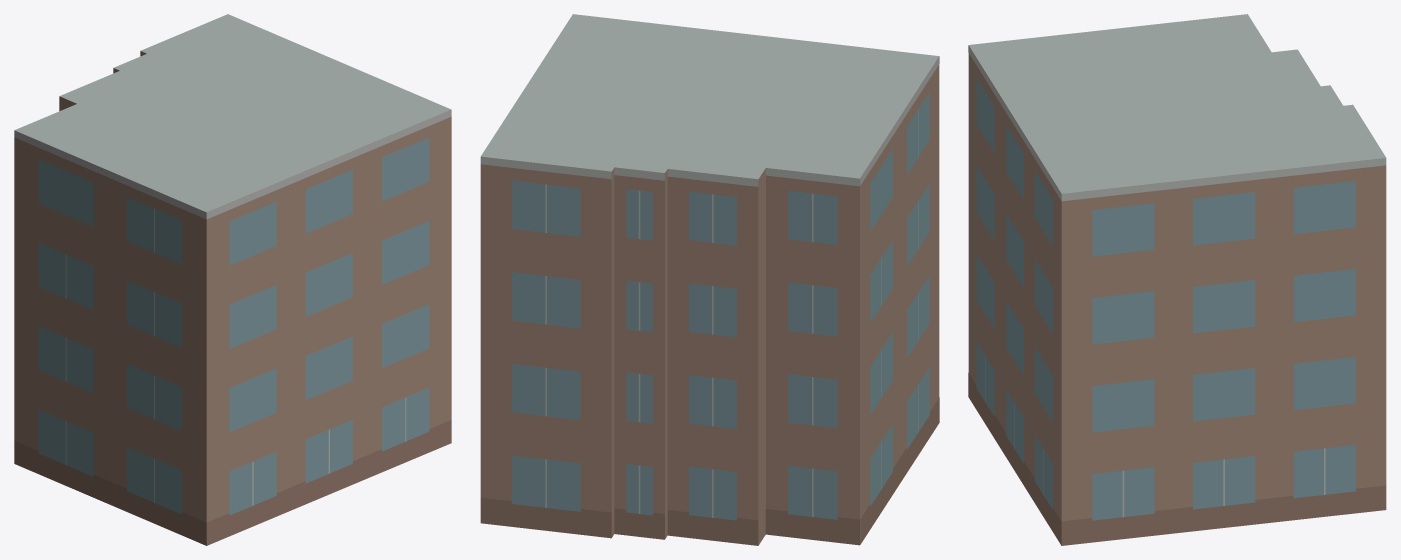
Rendered from survey-upis-32717608.glb.
3 renders of one model, left to right at view 1: azimuth 30°, elevation 25°; view 2: azimuth 150°, elevation 25°; view 3: azimuth 270°, elevation 25°, orthographic. The views are drawn at different scales.
Visible parts, largest first — view 1: survey-upis-32717608.tmp; view 2: survey-upis-32717608.tmp; view 3: survey-upis-32717608.tmp.
Boxes of the visible parts, <box> form: survey-upis-32717608.tmp: <box>14,14,451,545</box>; survey-upis-32717608.tmp: <box>480,14,939,545</box>; survey-upis-32717608.tmp: <box>968,14,1386,545</box>.
Bounding box in the file's own units: 12.72 × 11.6 × 12.49.
